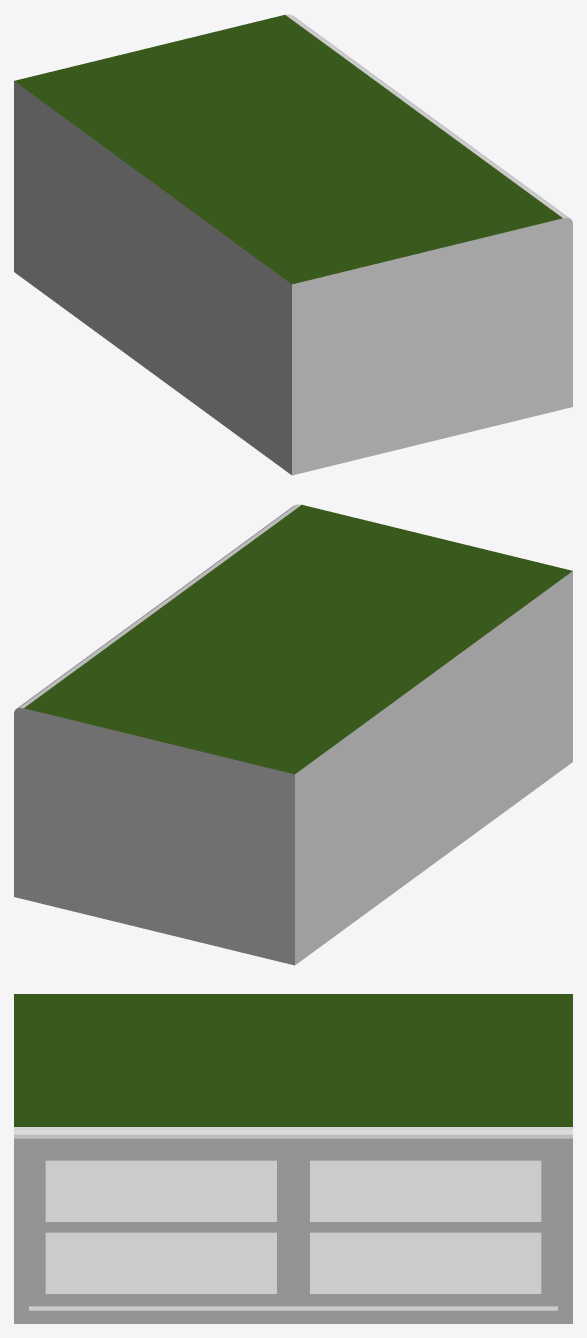
The model's file is drawer.fbx.
The picture shows the model from 3 angles, top to bottom: view 1: azimuth 30°, elevation 25°; view 2: azimuth 150°, elevation 25°; view 3: azimuth 270°, elevation 25°; orthographic projection.
Parts seen in each view (by area): view 1: Cube; view 2: Cube; view 3: Cube.
Part boxes in pixels (<box>): Cube: <box>14,14,572,475</box>; Cube: <box>14,504,572,965</box>; Cube: <box>14,994,572,1323</box>.
Size of the model in its own units: 430 by 280 by 737.
Materials: 1 (1 with a texture image).
